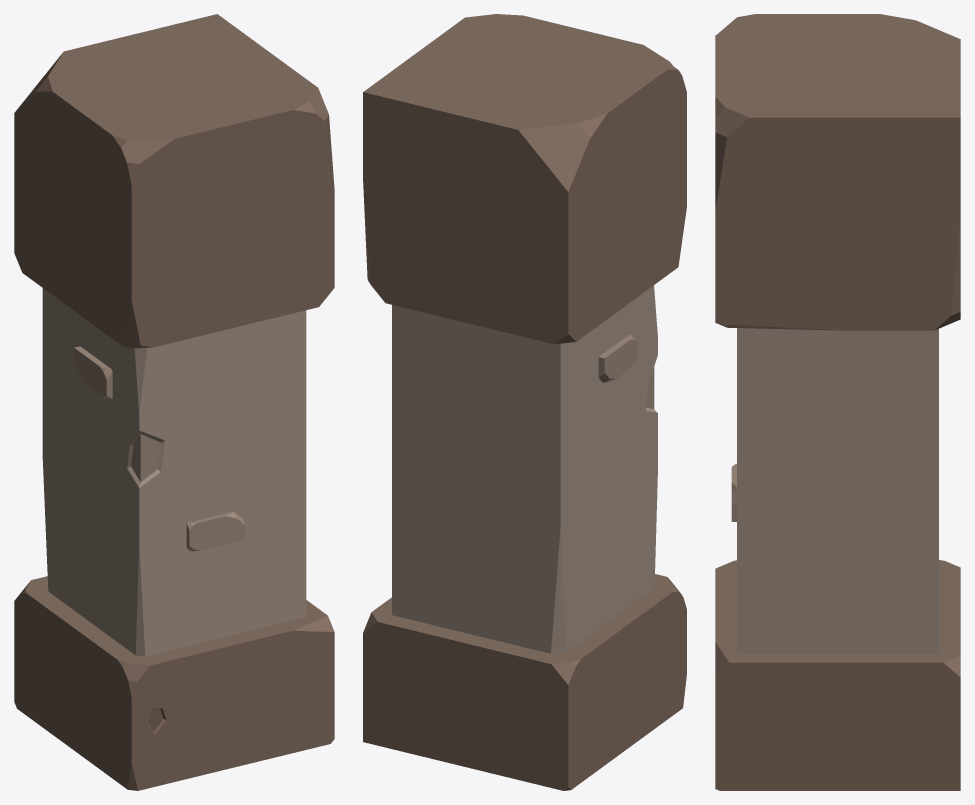
Rendered from Wall_04.fbx.
3 views of the same model, side by side, from view 1: azimuth 30°, elevation 25°; view 2: azimuth 150°, elevation 25°; view 3: azimuth 270°, elevation 25° (orthographic). The views are drawn at different scales.
Parts seen in each view (by area): view 1: Wall_04; view 2: Wall_04; view 3: Wall_04.
Boxes of the visible parts, x1,y1,x2,y2 form: Wall_04: [14, 14, 334, 790]; Wall_04: [363, 14, 686, 790]; Wall_04: [715, 14, 960, 790].
Bounding box in the file's own units: 200 × 605 × 200.
